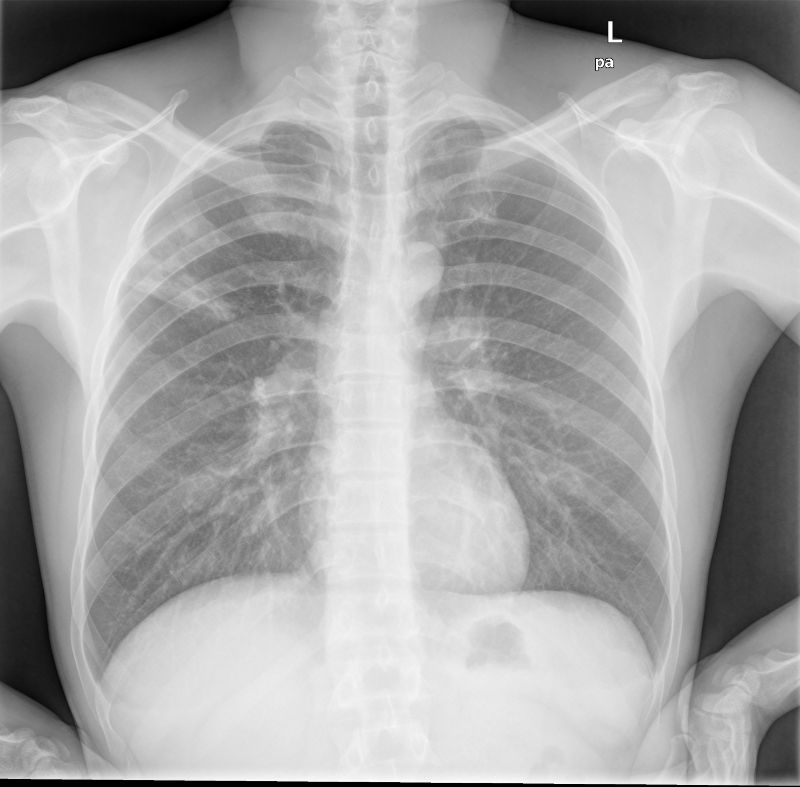Tuberculosis (TB): (133, 263, 241, 338)
